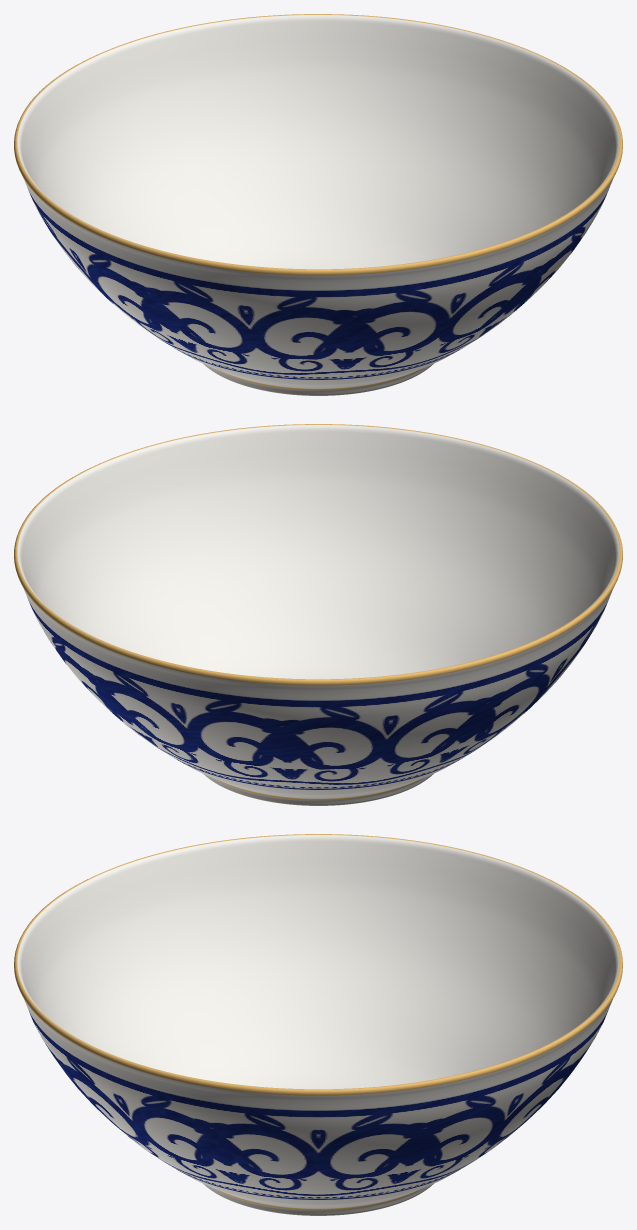
The model's file is baroque-bowl.glb.
3 views of the same model, one above another, from view 1: azimuth 30°, elevation 25°; view 2: azimuth 150°, elevation 25°; view 3: azimuth 270°, elevation 25° (orthographic).
Parts seen in each view (by area): view 1: baroque-bowl; view 2: baroque-bowl; view 3: baroque-bowl.
Part boxes in pixels (x1,y1,x2,y2): baroque-bowl: [14, 14, 622, 395]; baroque-bowl: [14, 424, 622, 805]; baroque-bowl: [14, 834, 622, 1215].
Size of the model in its own units: 0.2103 by 0.0771 by 0.2103.
Materials: 1 (1 with a texture image).
